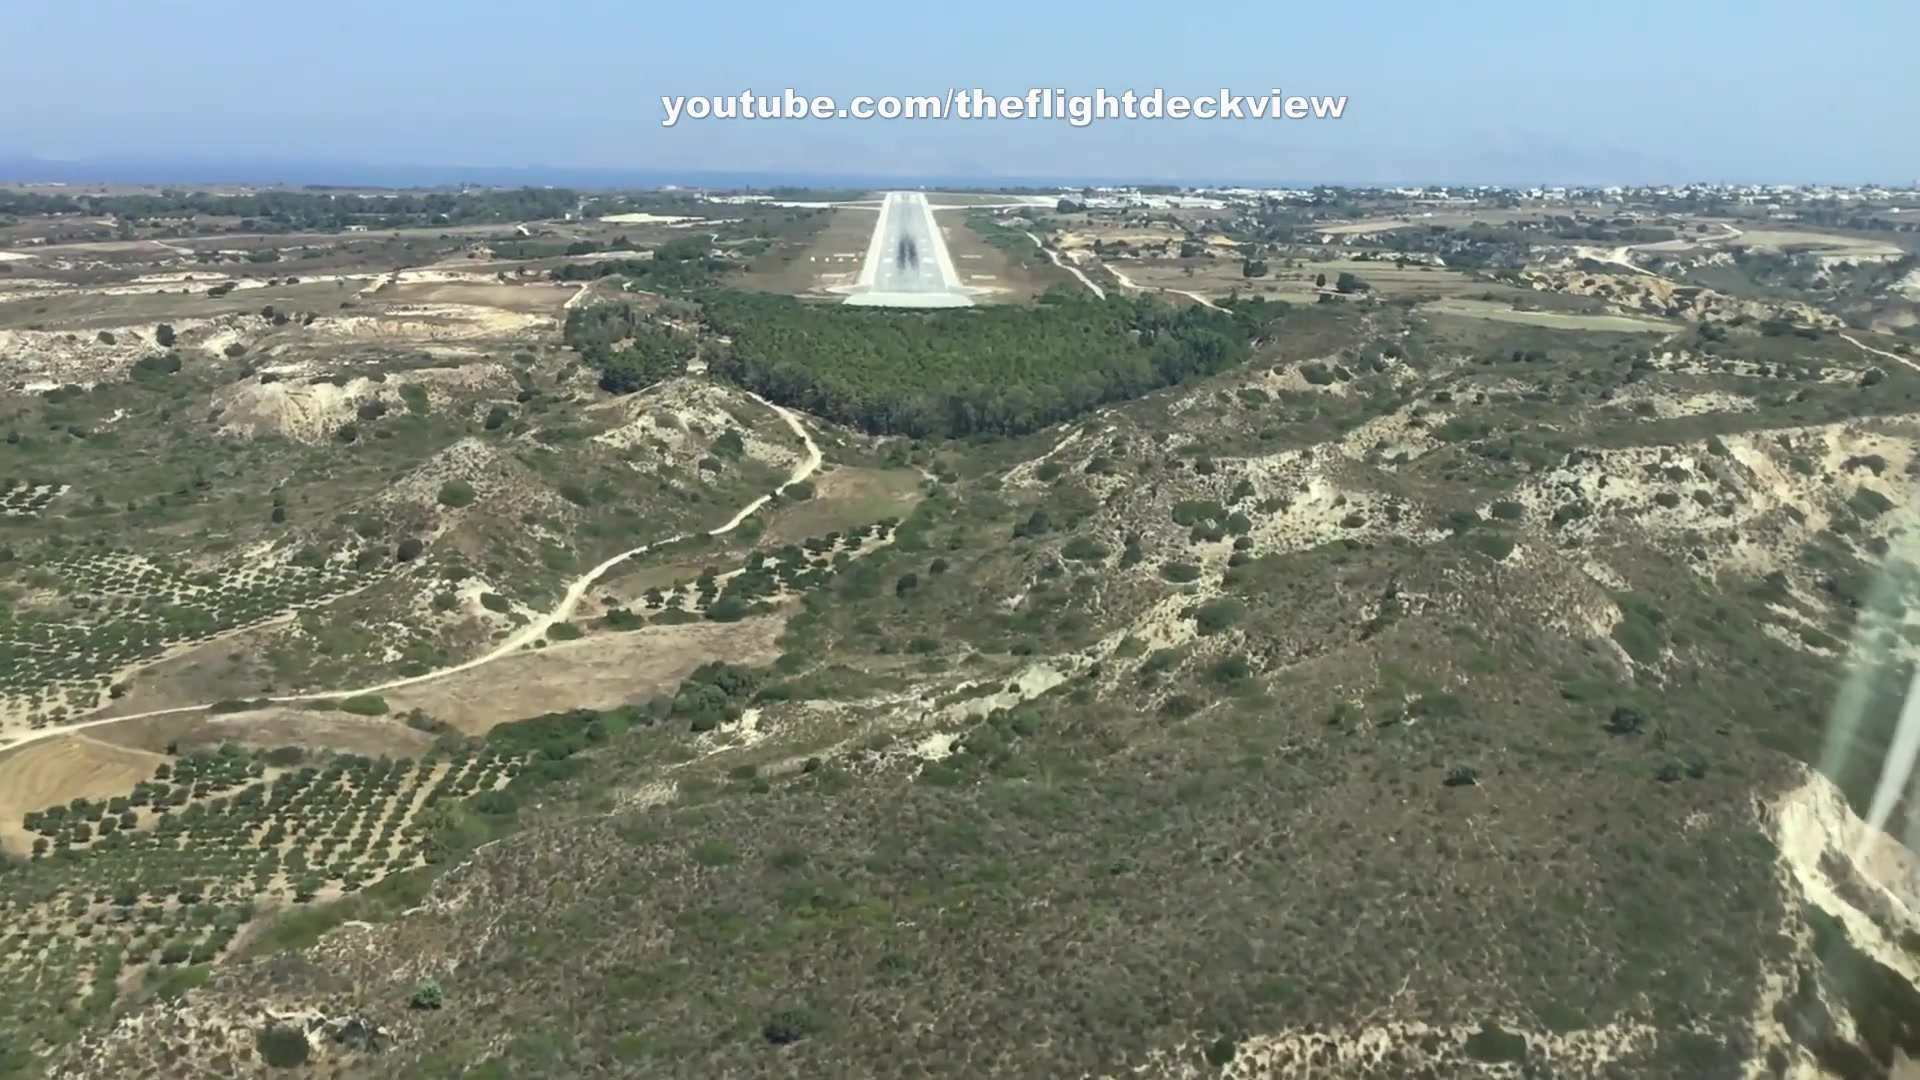runway: (858, 191, 959, 298)
